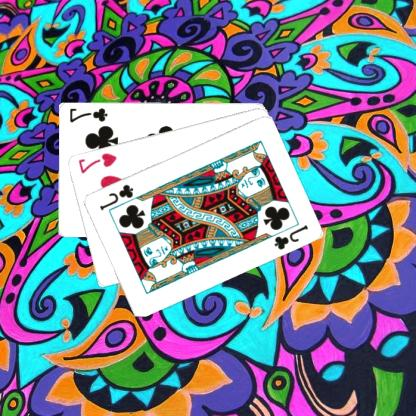7C: (69, 105, 110, 123)
7H: (77, 150, 120, 174)
JC: (98, 181, 136, 212), (272, 222, 310, 251)
